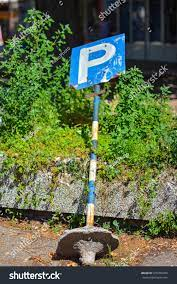Parking: (59, 31, 143, 97)
